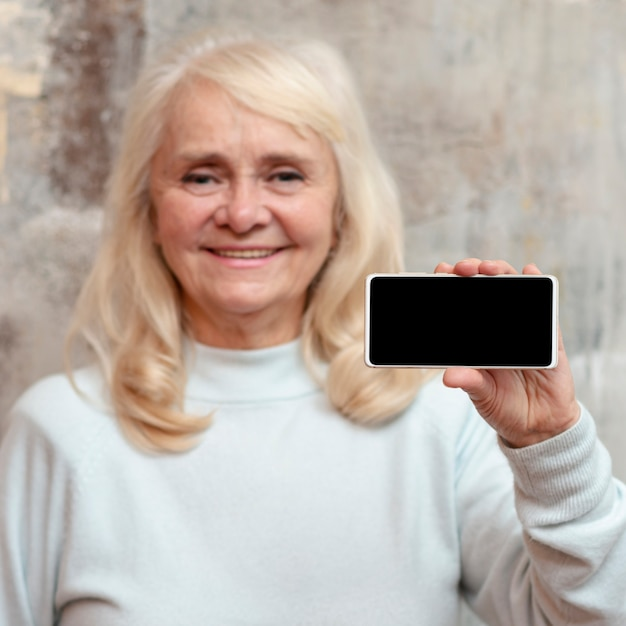young: (131, 41, 382, 347)
